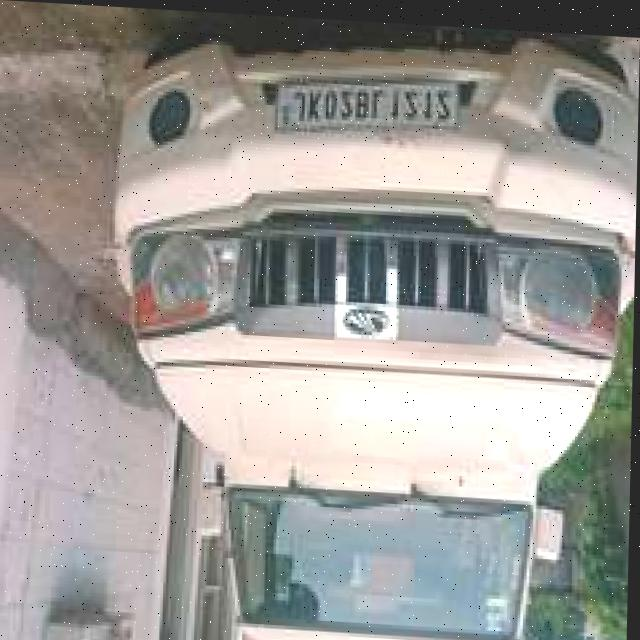plate: (270, 70, 460, 142)
